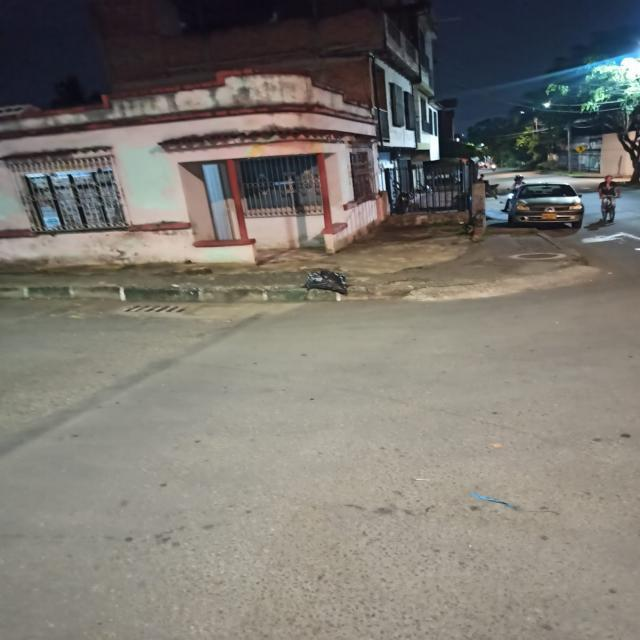Garbage_Bag: (301, 268, 352, 296)
